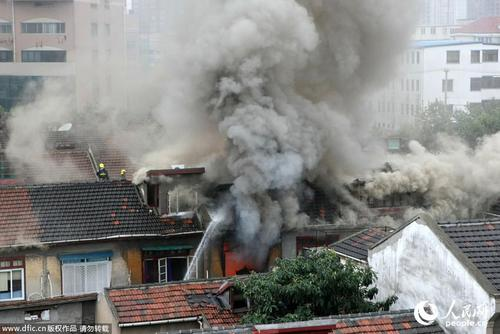smoke: (121, 7, 425, 231)
